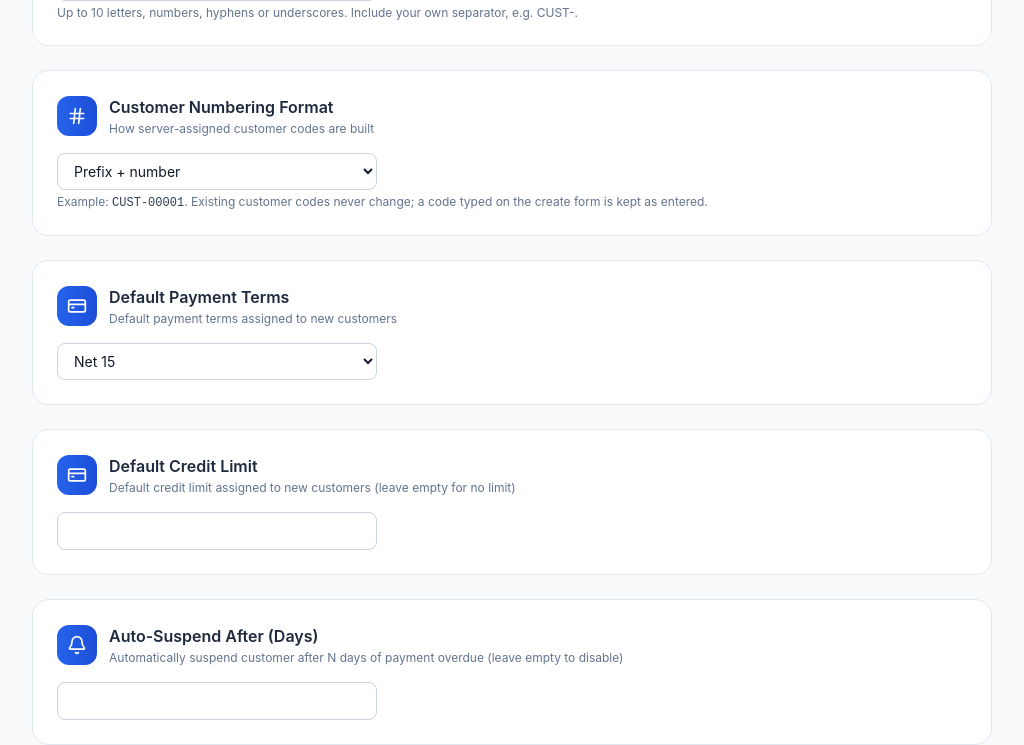
Test case: BUG-13 Customer Settings — Refresh with unsaved edits › confirming reloads the saved values and discards the edit
(page scrolled)
Select "Net 60" in the dropdown labelled "Default Payment Terms". click: [217, 362]
box: [57,343,377,380]
(page scrolled)
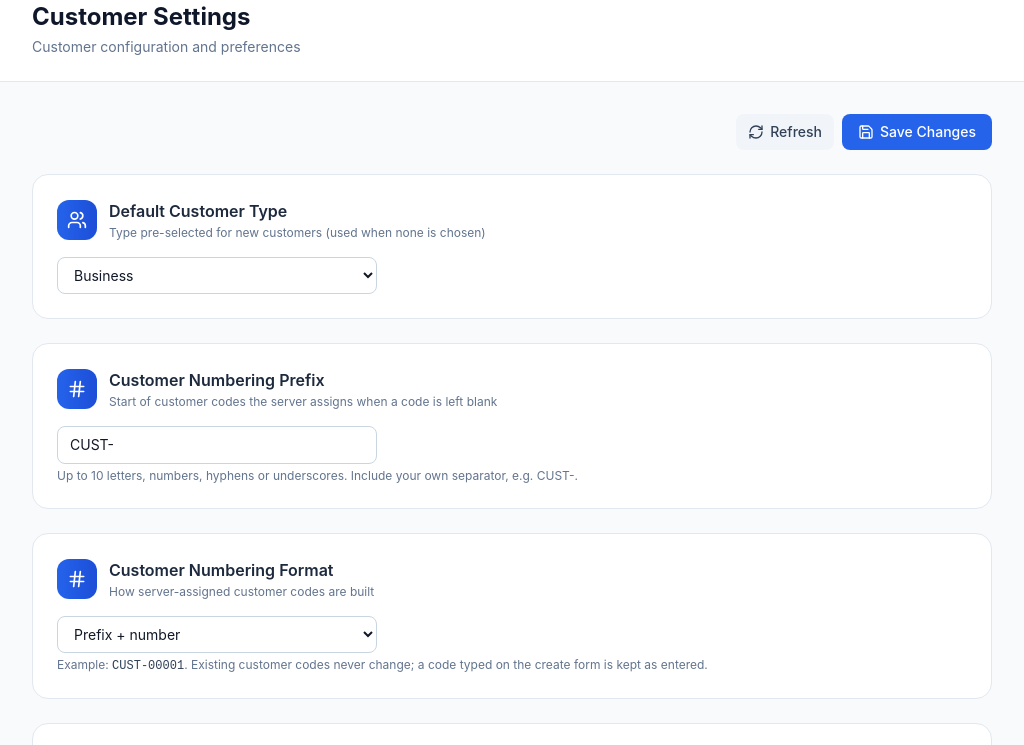
Click the button "Refresh". click: [785, 132]
box: [736,114,834,150]
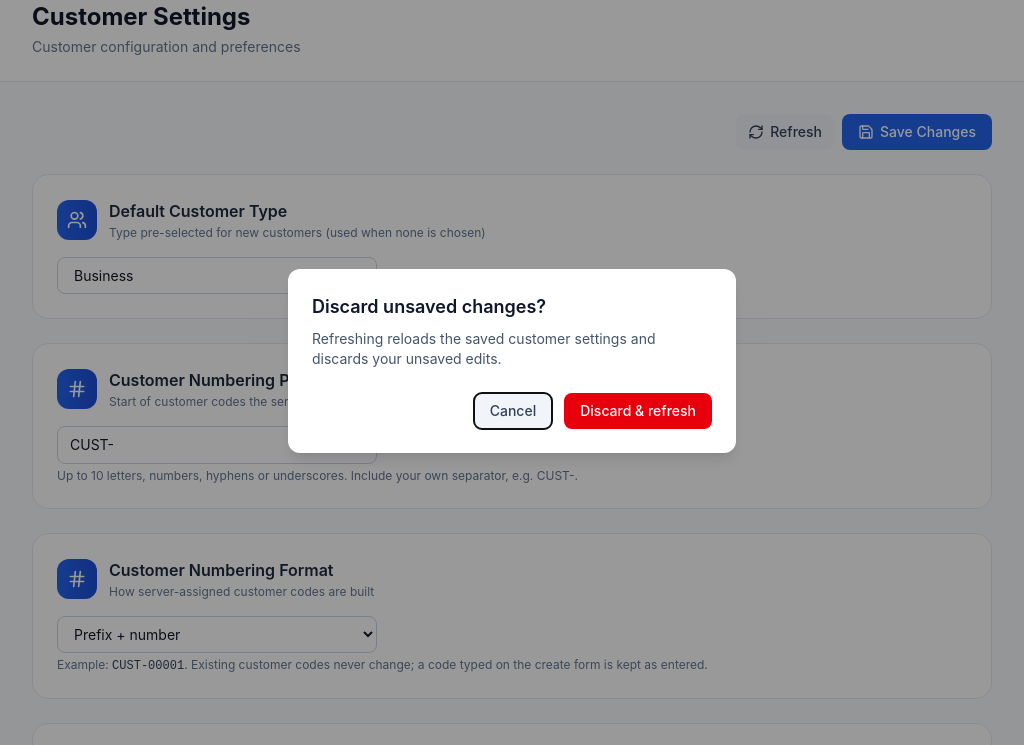
Click the button "Discard & refresh". click: [638, 411]
box: [564,393,712,429]
(page scrolled)
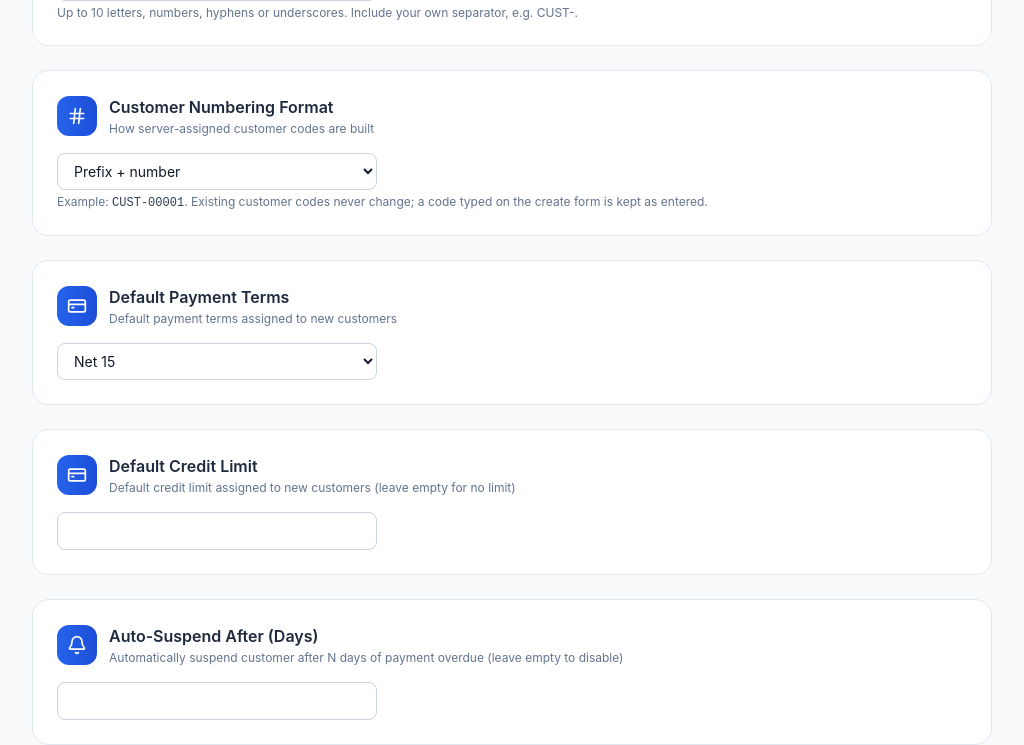
Result: the dropdown labelled "Default Payment Terms" shows "Net 15" at [57,343,377,380]
